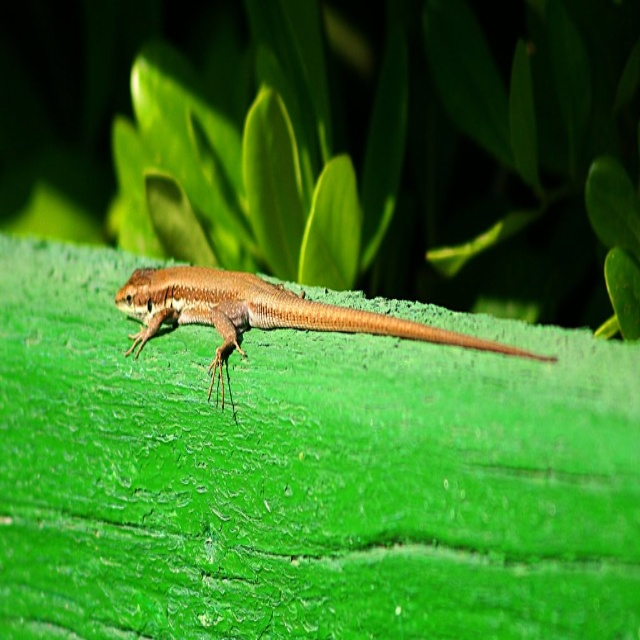Lizard: (116, 259, 498, 417)
